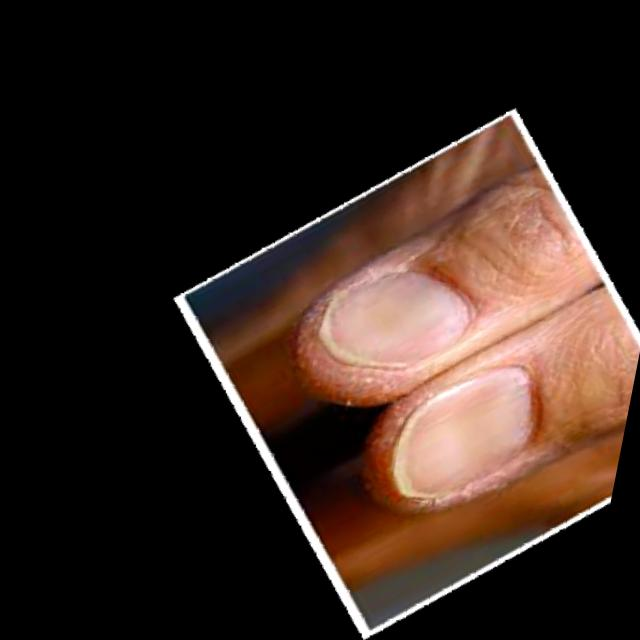Nail: (394, 365, 536, 499), (318, 271, 471, 366)
